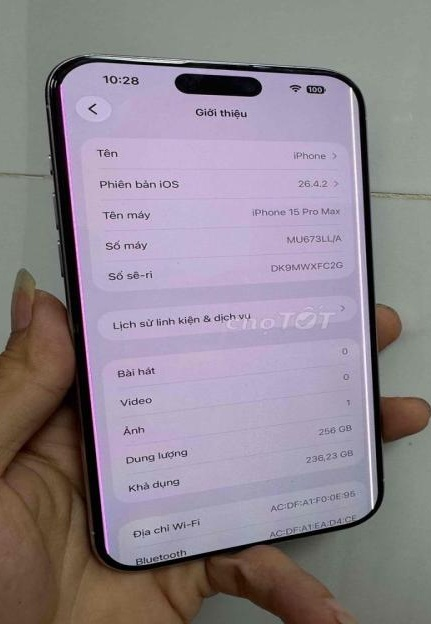screen_defect: (41, 69, 141, 558), (334, 65, 396, 523)
